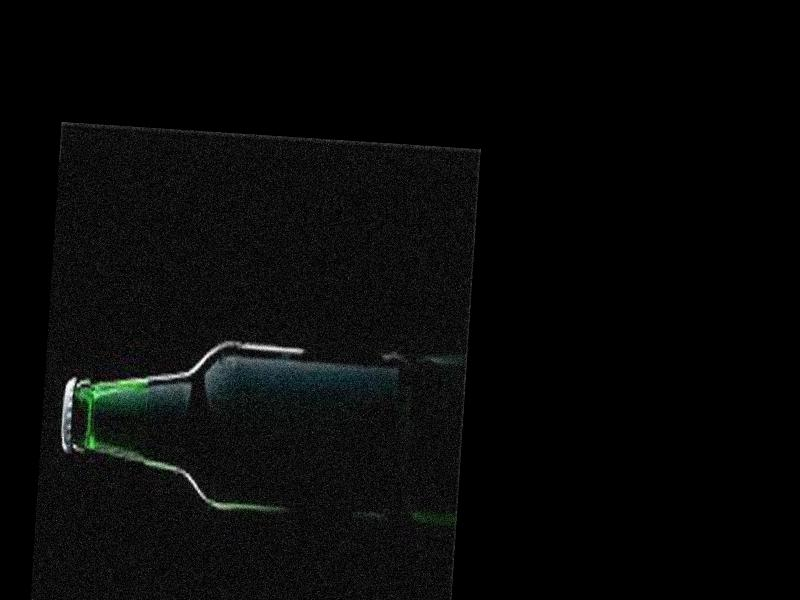Beer: (55, 324, 408, 520)
